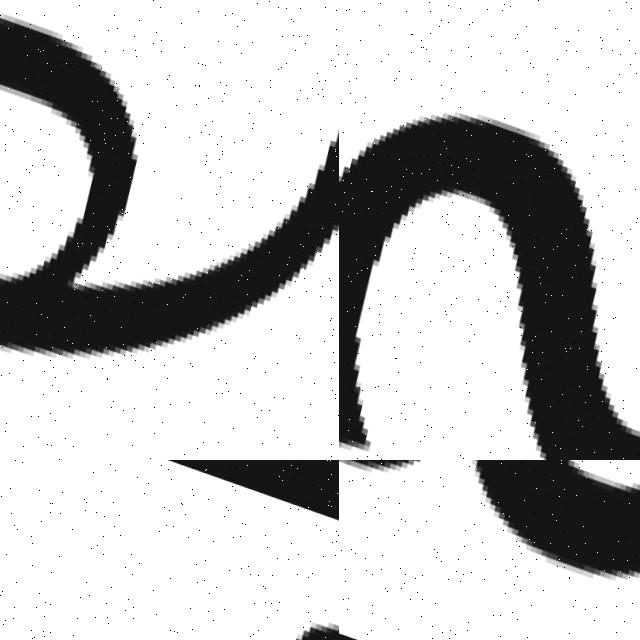3: (339, 460, 640, 633)
9: (0, 0, 339, 457)
S: (339, 0, 640, 460)
X: (0, 460, 339, 640)
